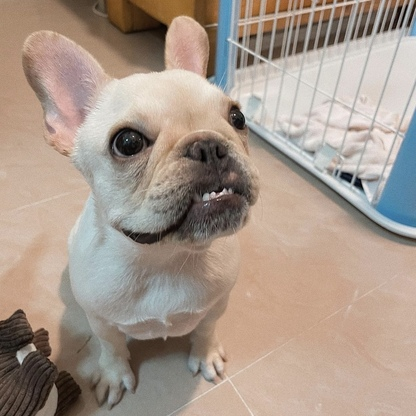bulldog: (20, 13, 262, 409)
